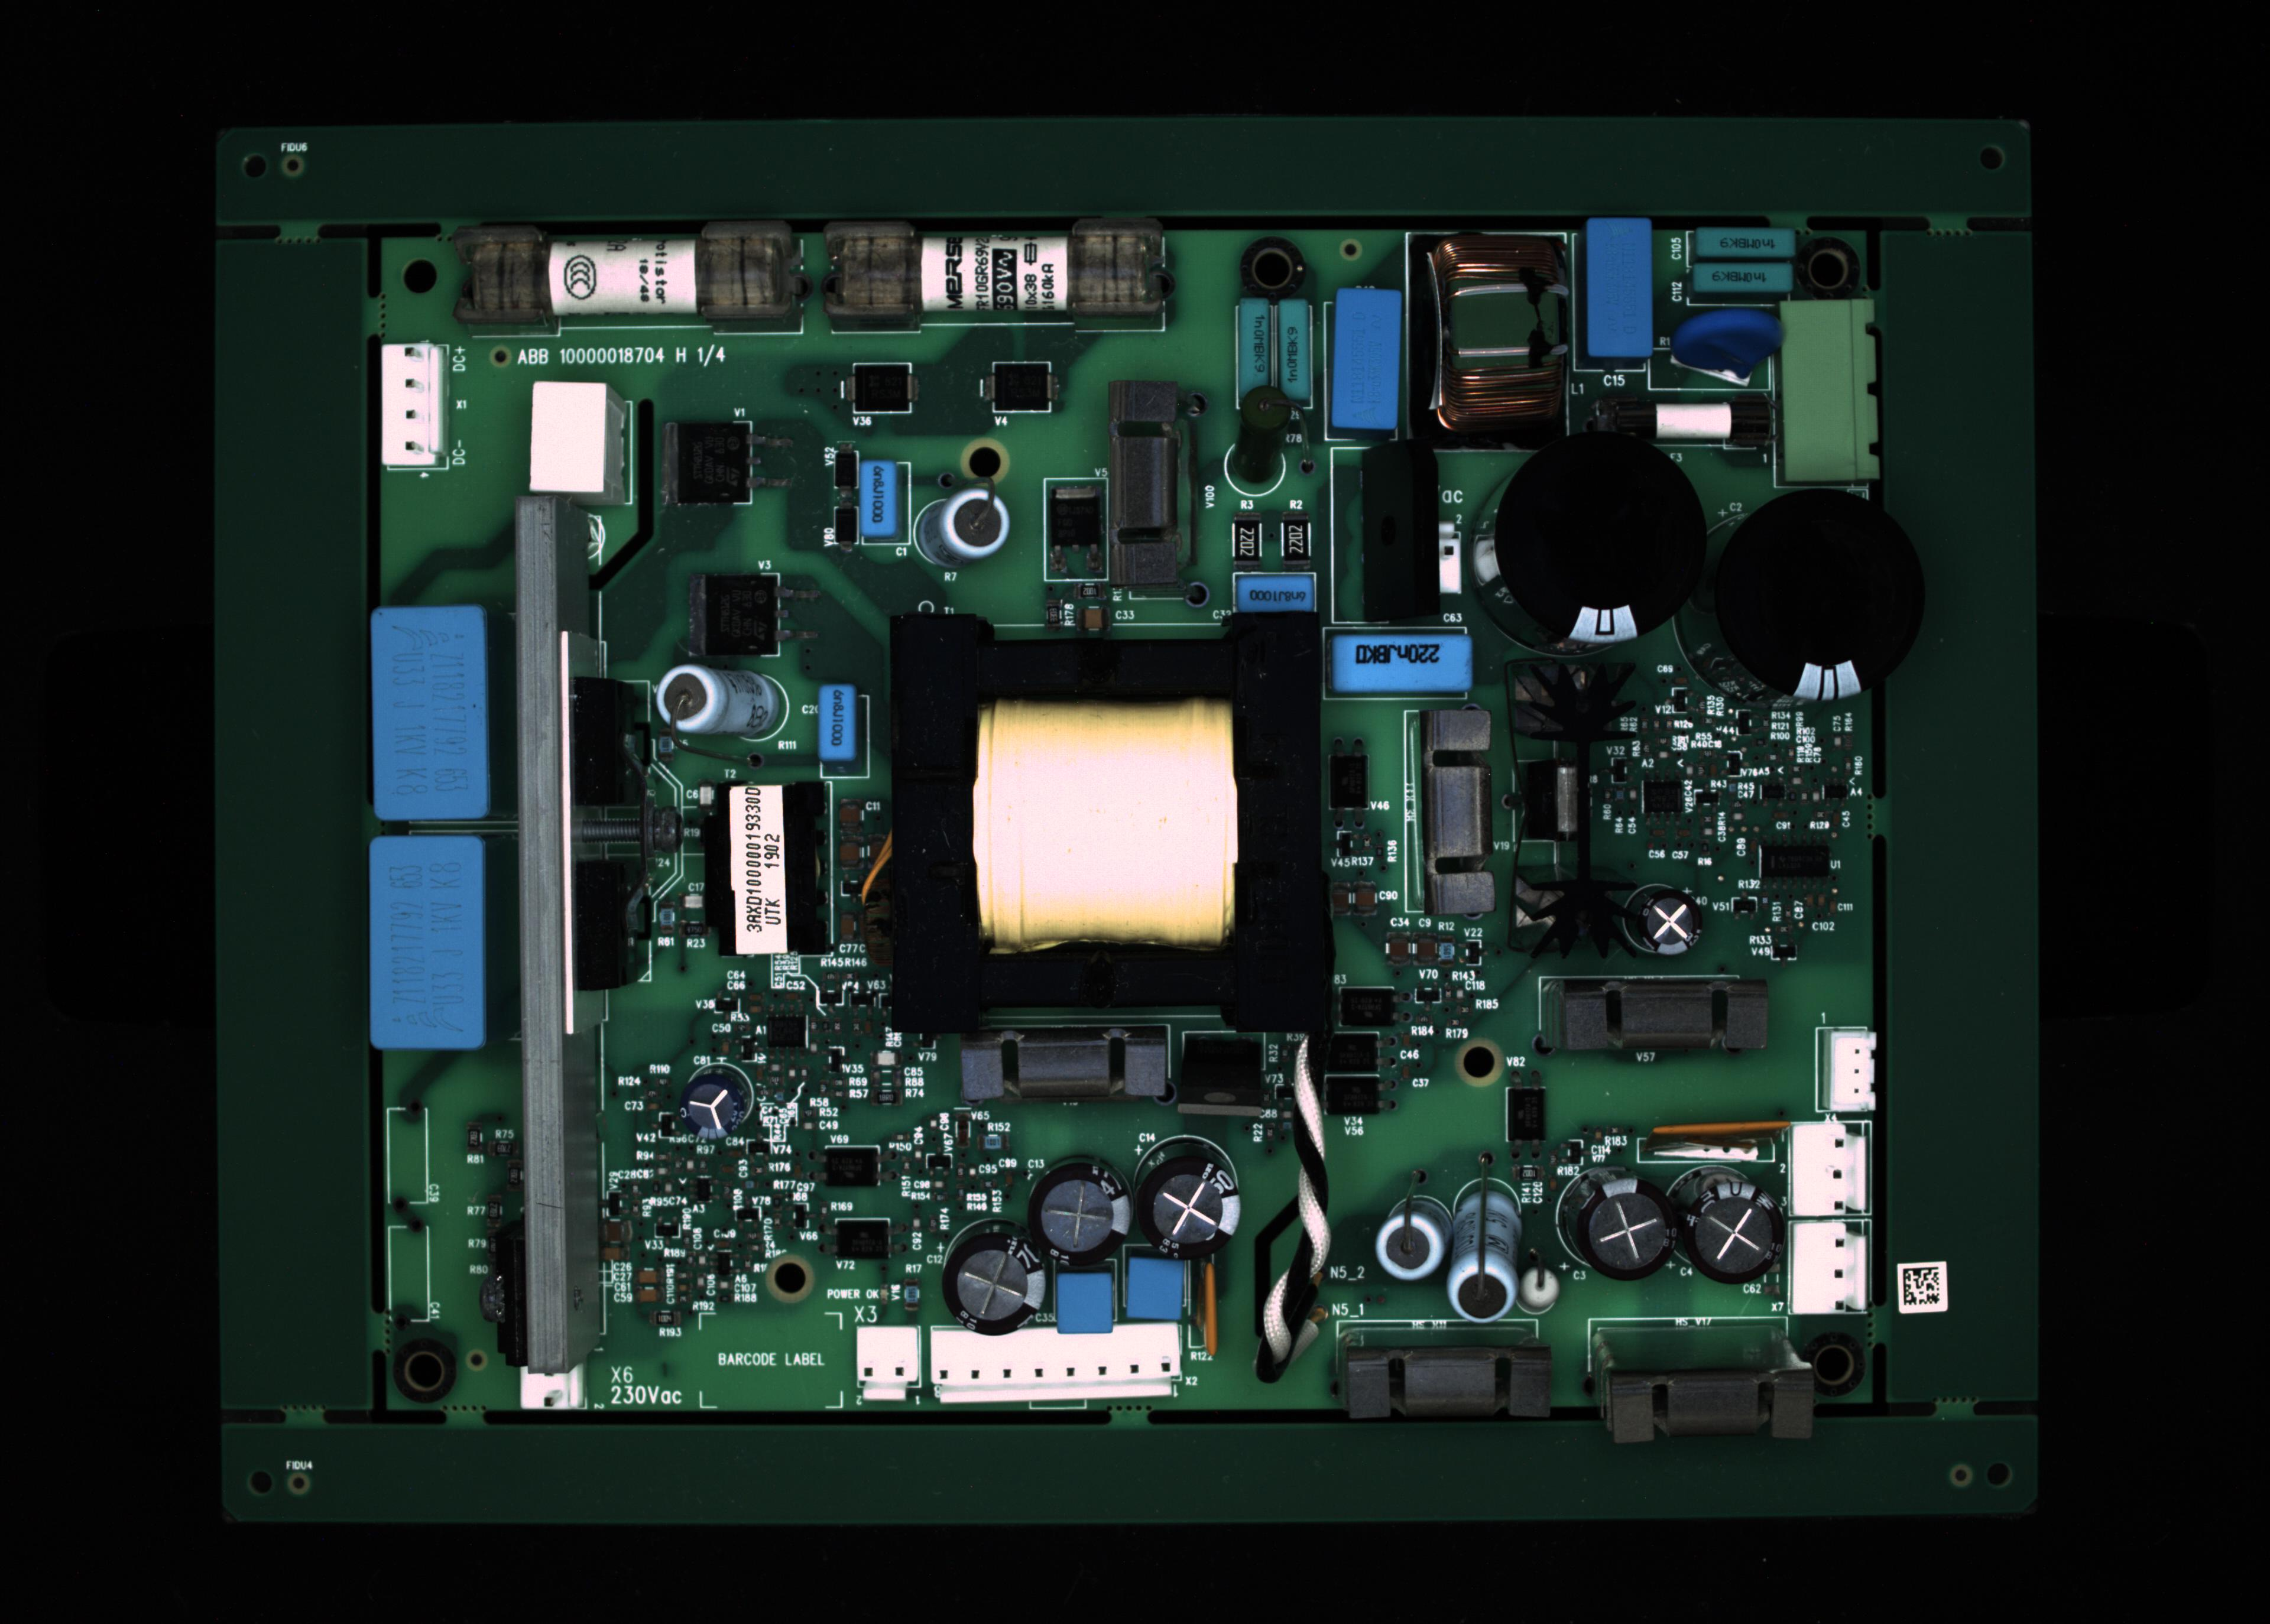10_p: (1651, 350, 1772, 390)
11_q: (1783, 299, 1876, 483)
12_r: (1591, 392, 1772, 443)
13_s: (382, 341, 445, 466)
14_t: (529, 381, 607, 492)
15_e: (860, 460, 907, 543)
16_k: (920, 487, 1011, 568)
17_u: (1113, 381, 1178, 576)
18_v: (1234, 575, 1313, 610)
19_w: (1333, 636, 1470, 691)
1_a: (457, 230, 807, 320)
20_f: (1438, 522, 1461, 594)
21_g: (1495, 431, 1709, 647)
22_g: (1711, 487, 1925, 698)
23_h: (371, 608, 487, 817)
24_h: (369, 838, 484, 1048)
25_f: (519, 1362, 586, 1411)
26_f: (855, 1327, 923, 1404)
27_x: (928, 1323, 1182, 1404)
28_i: (1131, 1155, 1243, 1253)
29_i: (1025, 1158, 1134, 1274)
2_a: (819, 227, 1169, 323)
30_i: (942, 1230, 1055, 1339)
31_j: (1051, 1267, 1115, 1334)
32_j: (1125, 1253, 1190, 1325)
33_e: (816, 684, 858, 759)
34_k: (1375, 1193, 1454, 1283)
35_k: (1451, 1192, 1523, 1323)
36_i: (1574, 1174, 1672, 1281)
37_i: (1679, 1165, 1793, 1288)
38_l: (1347, 1346, 1554, 1418)
39_l: (1611, 1373, 1813, 1441)
3_b: (1238, 299, 1271, 394)
40_l: (1563, 986, 1771, 1051)
41_y: (1424, 708, 1493, 914)
42_z: (1832, 1030, 1876, 1113)
43_m: (1795, 1123, 1871, 1213)
44_m: (1793, 1222, 1869, 1311)
45_i: (680, 1067, 756, 1144)
46_n: (1338, 982, 1412, 1028)
47_n: (807, 1142, 899, 1183)
48_n: (818, 1214, 907, 1262)
49_aa: (765, 1011, 809, 1053)
4_b: (1282, 299, 1310, 402)
50_n: (1321, 1030, 1391, 1070)
51_n: (1308, 1070, 1394, 1113)
52_ab: (1329, 752, 1366, 808)
53_ac: (1656, 1130, 1790, 1165)
54_ad: (1194, 1253, 1222, 1364)
55_l: (957, 1021, 1175, 1118)
56_ae: (1176, 1032, 1266, 1116)
57_af: (1512, 657, 1633, 963)
58_i: (1635, 888, 1704, 956)
59_o: (990, 362, 1048, 411)
5_c: (1335, 290, 1401, 431)
60_o: (853, 362, 911, 415)
6_ag: (1405, 232, 1572, 452)
7_c: (1590, 218, 1651, 355)
8_d: (1699, 227, 1793, 255)
9_d: (1692, 264, 1792, 292)
